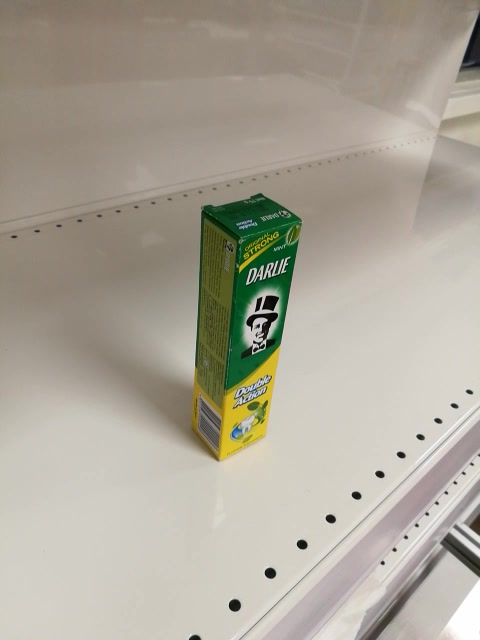toothpaste: (189, 192, 302, 464)
